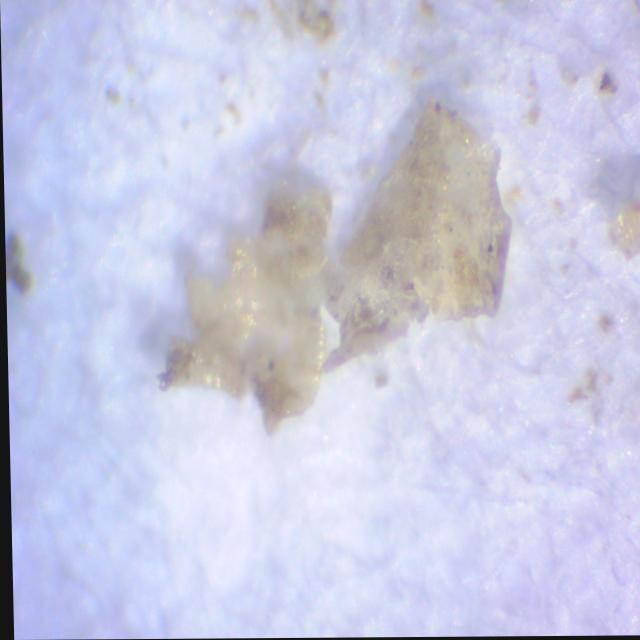microplastic: (159, 99, 508, 437)
